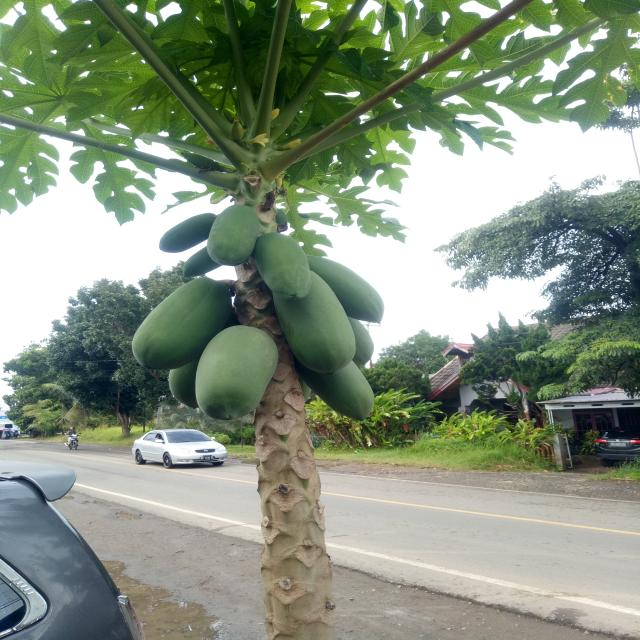Pepaya unrippen: (128, 281, 226, 371), (193, 323, 274, 420), (318, 258, 390, 332), (294, 281, 351, 370), (252, 230, 316, 304), (209, 206, 258, 266), (324, 366, 376, 417)
